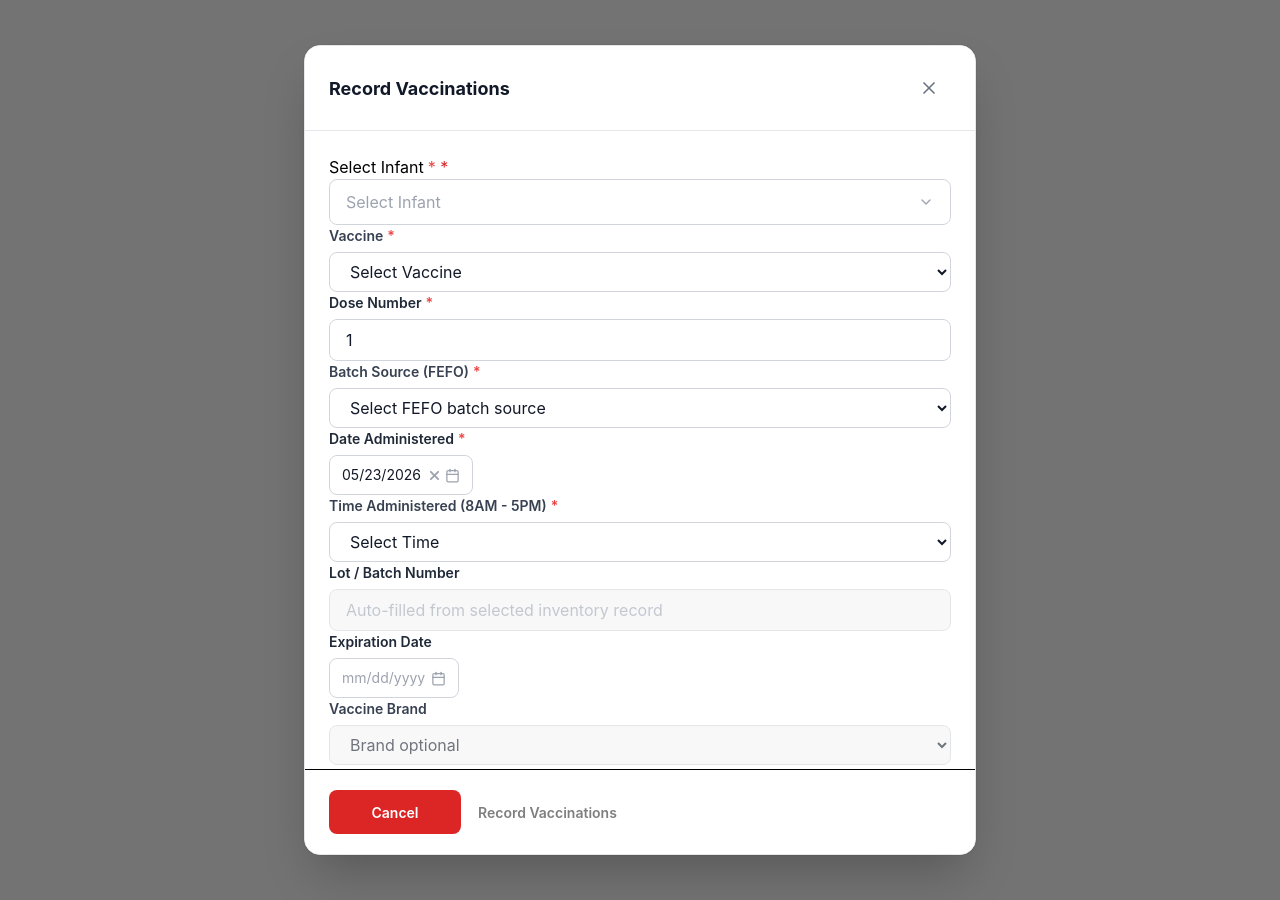
Scenario: InjectVaccineModal infant dropdown labels › keeps the selected searched infant name visible after the base infant list refreshes
This screenshot has width=1280, height=900.
Click the button "Select Infant" at (393, 202), box [329,179,951,225]
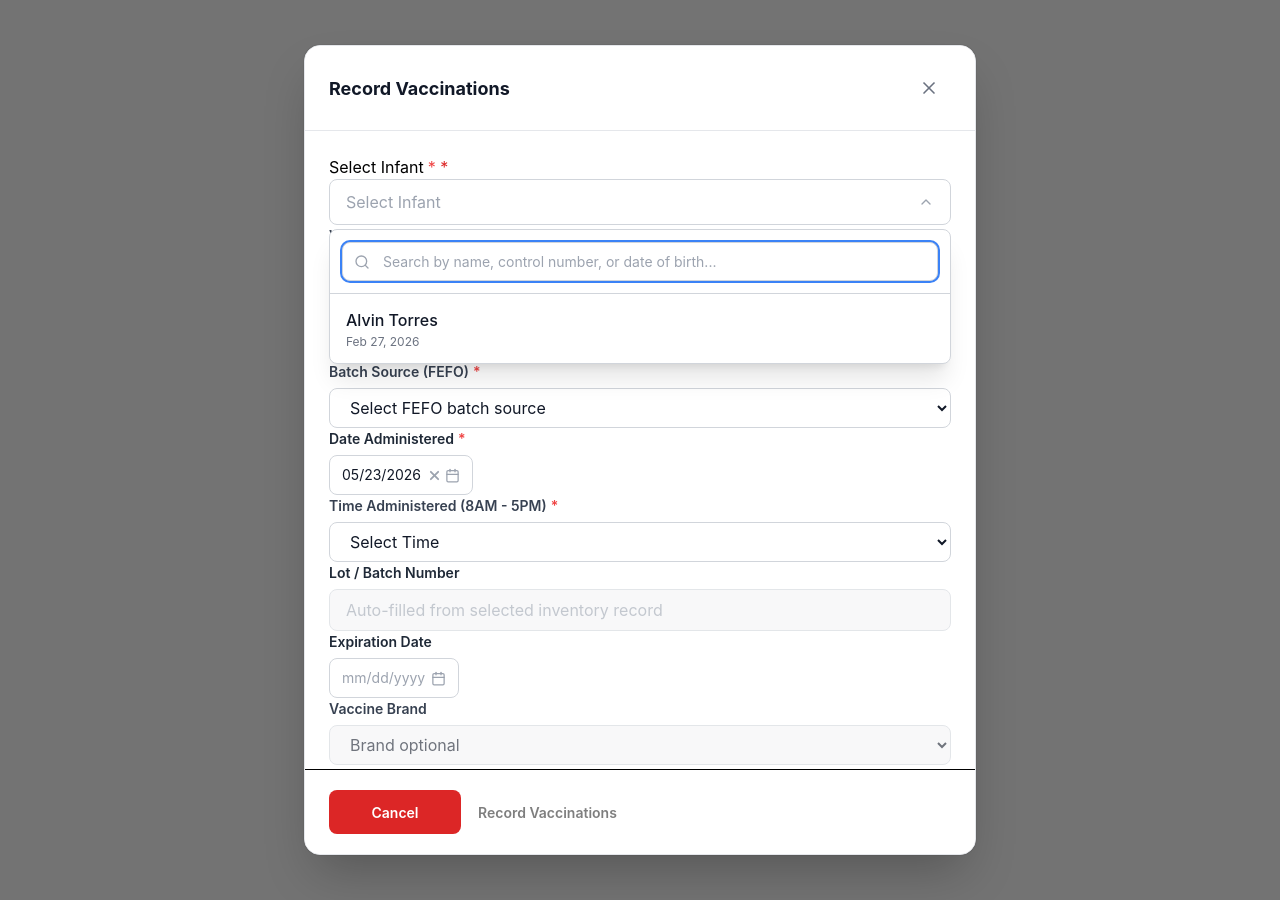
Type "christian samorin" into the field with placeholder "Search by name, control number, or date of birth..." at (640, 262), box [342,242,938,281]
Wait 300 ms
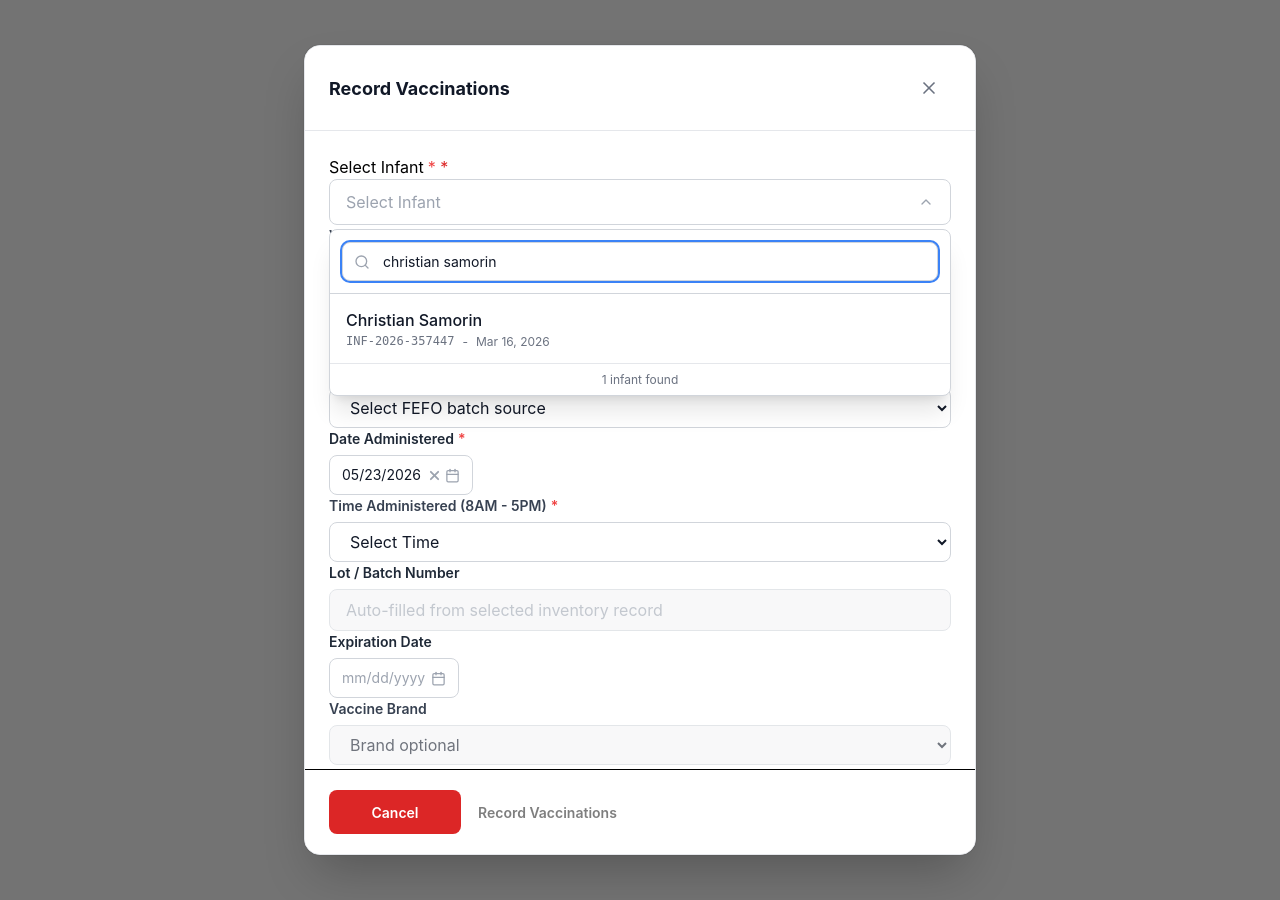
Click the button "Christian Samorin INF-2026-357447 - Mar 16, 2026" at (414, 320), box [330,298,950,359]
Wait 300 ms
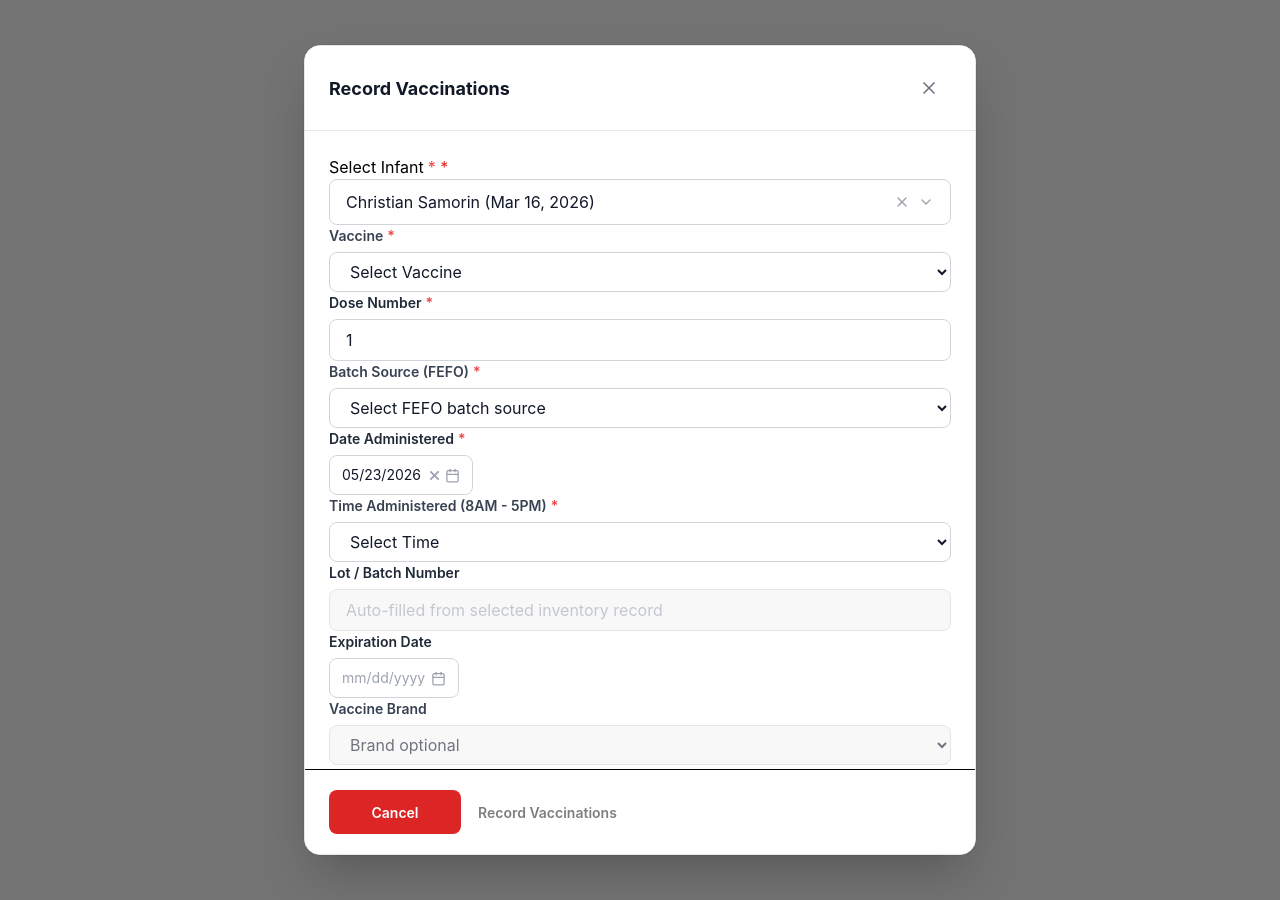
Now the button "Christian Samorin (Mar 16, 2026)" is shown, box [329,179,951,225]
